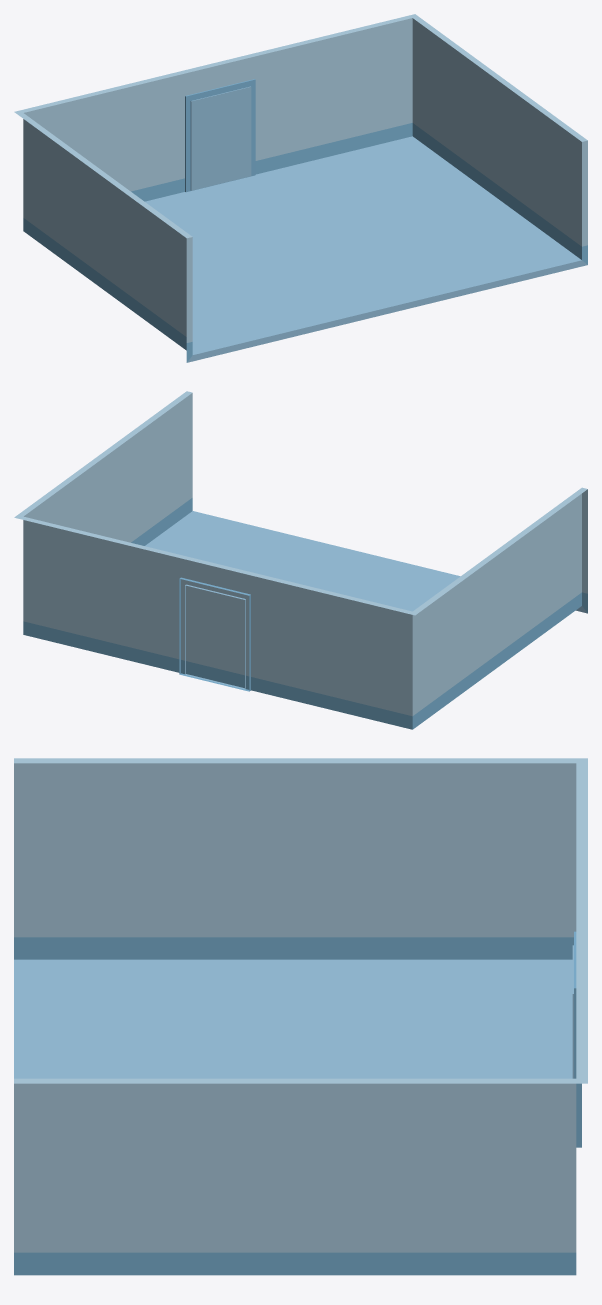
File: Map2.fbx
3 renders of one model, top to bottom at view 1: azimuth 30°, elevation 25°; view 2: azimuth 150°, elevation 25°; view 3: azimuth 270°, elevation 25°, orthographic. The views are drawn at different scales.
Parts seen in each view (by area): view 1: Map 1, Door, Door.001; view 2: Map 1, Door.001; view 3: Map 1, Door.001.
Boxes of the visible parts, box(x1,y1,x2,y2) form: Map 1: box(14, 14, 587, 362); Door: box(190, 86, 251, 190); Door.001: box(185, 79, 255, 192); Map 1: box(14, 391, 587, 729); Door.001: box(179, 577, 250, 691); Map 1: box(14, 758, 587, 1275); Door.001: box(574, 931, 581, 1147).
Bounding box in the file's own units: 13.37 × 3.97 × 9.97.
